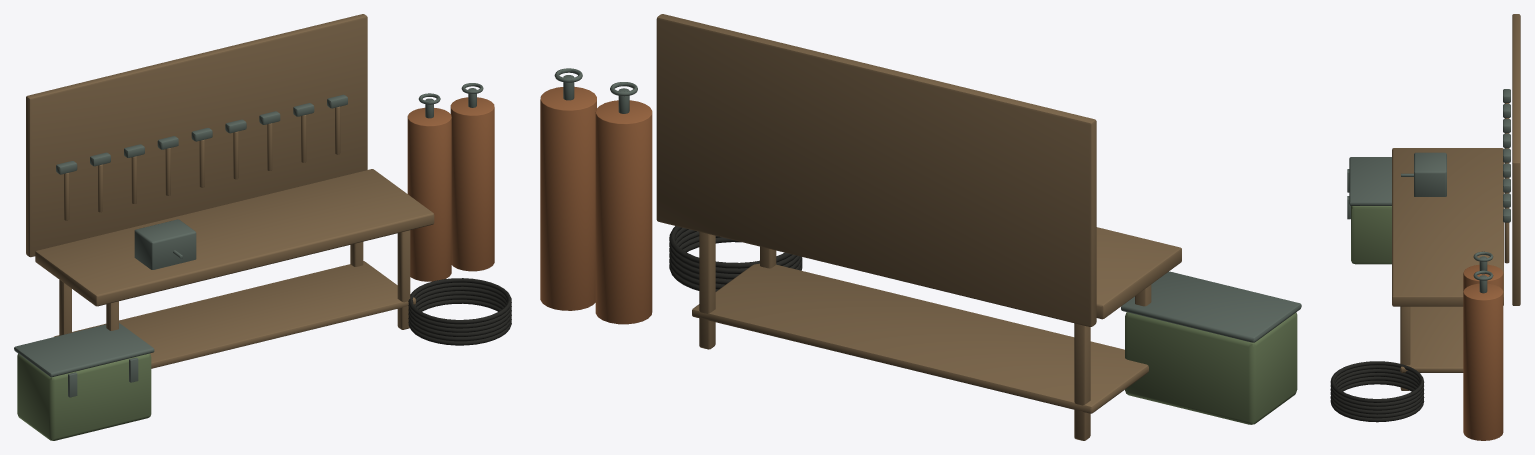
File: QuarryWorkbench08.fbx
The picture shows the model from 3 angles, left to right: view 1: azimuth 30°, elevation 25°; view 2: azimuth 150°, elevation 25°; view 3: azimuth 270°, elevation 25°; orthographic projection. The views are drawn at different scales.
Visible parts, largest first — view 1: QuarryWorkbench08; view 2: QuarryWorkbench08; view 3: QuarryWorkbench08.
Part boxes in pixels (bbox=[...]): QuarryWorkbench08: bbox=[14, 14, 511, 440]; QuarryWorkbench08: bbox=[540, 14, 1301, 440]; QuarryWorkbench08: bbox=[1330, 14, 1520, 440].
Size of the model in its own units: 456 by 161 by 222.
